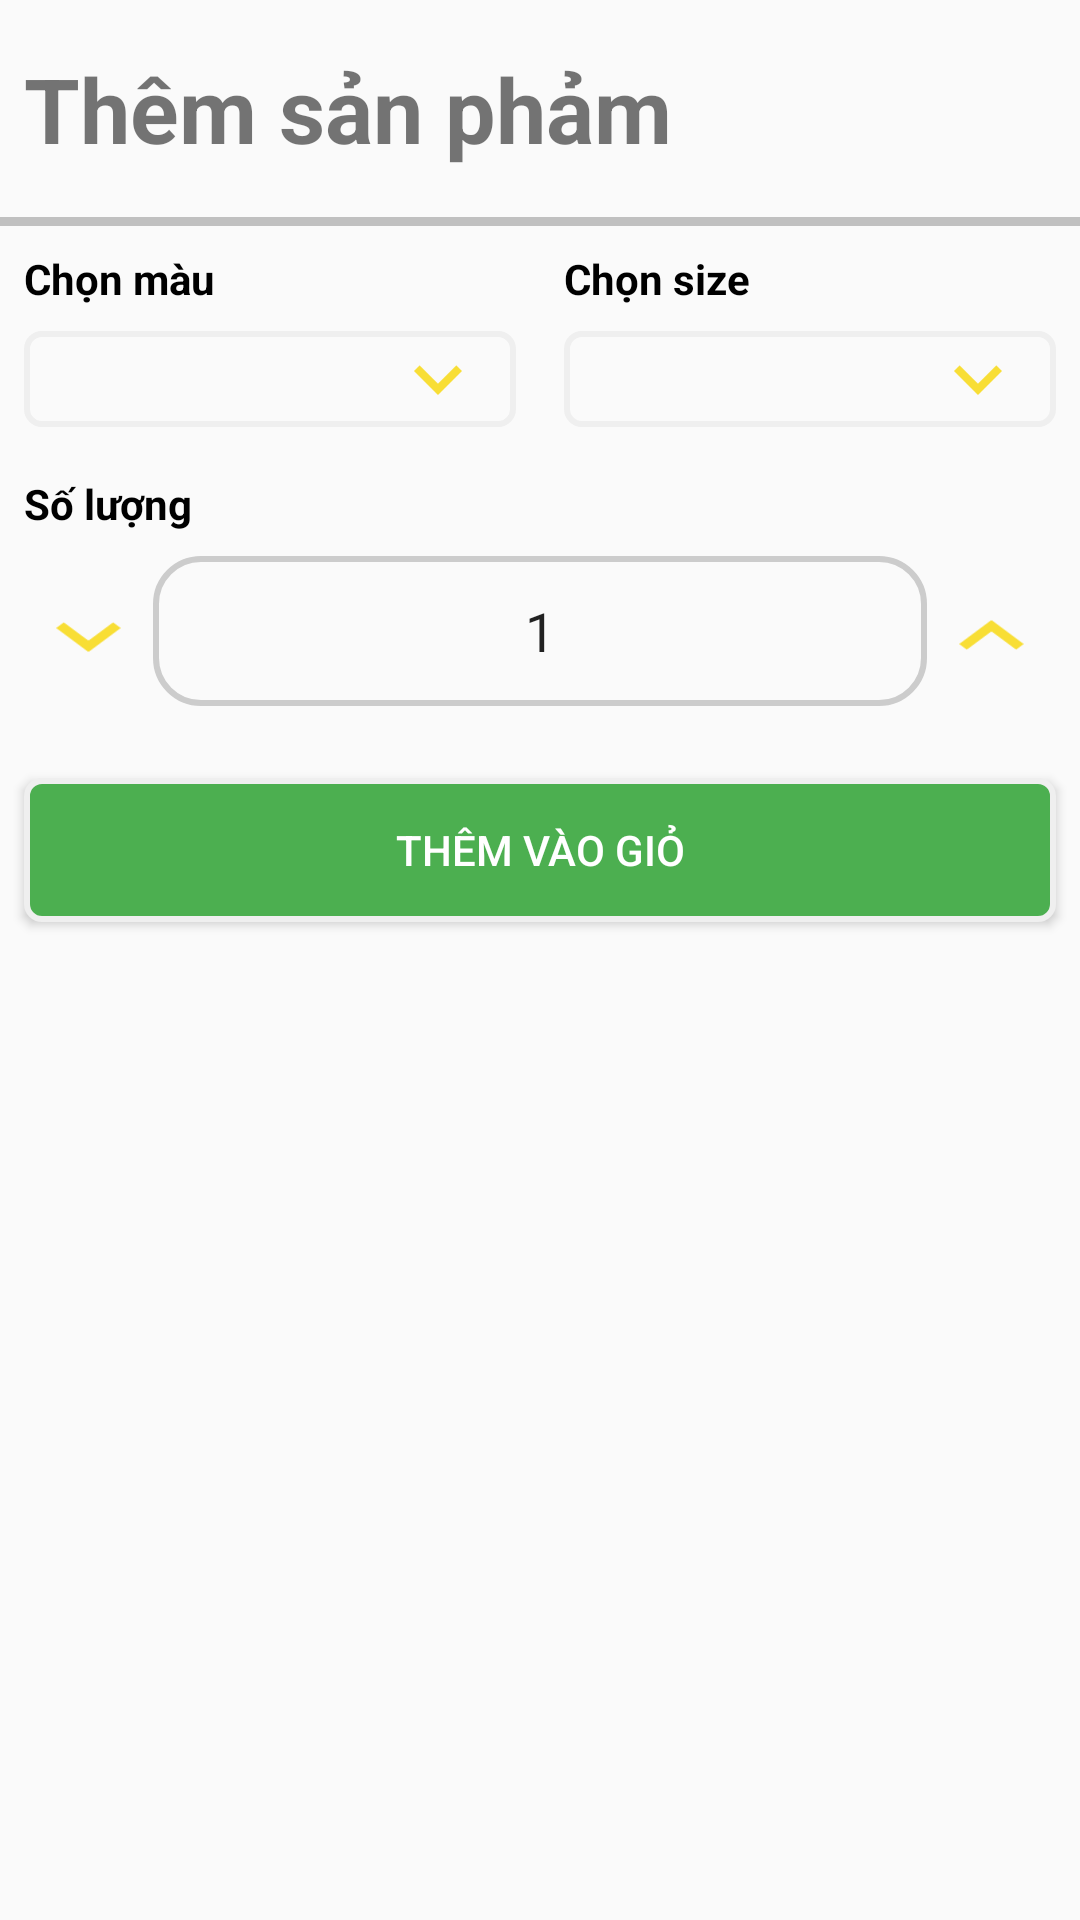

Icons on this 1080px×1920px Android screen, each with the point to tap as (x,y):
collapse: (991,635)
